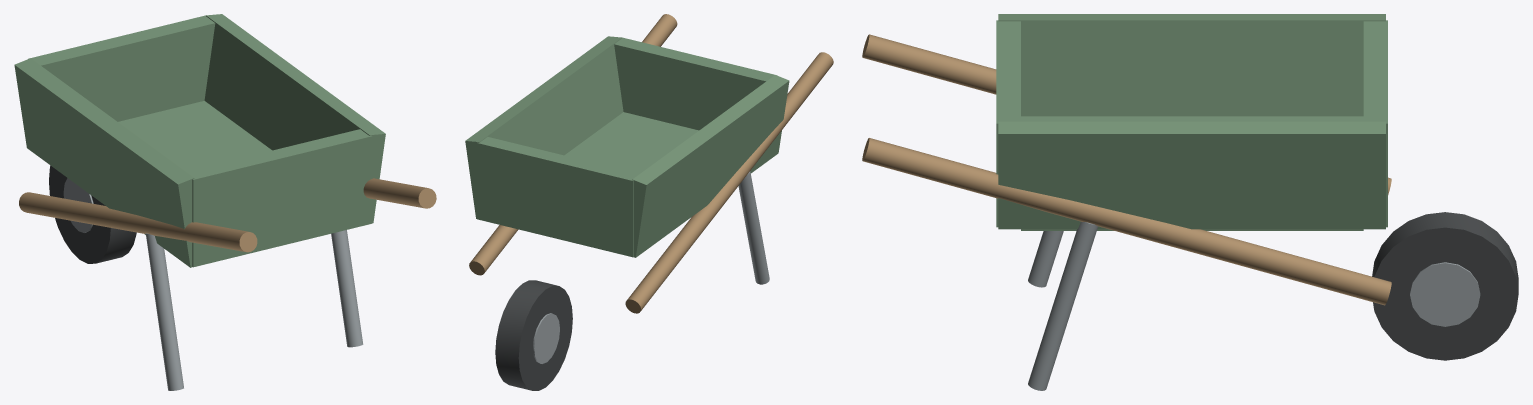
Rendered from wheelbarrow.glb.
The picture shows the model from 3 angles, left to right: view 1: azimuth 30°, elevation 25°; view 2: azimuth 150°, elevation 25°; view 3: azimuth 270°, elevation 25°; orthographic projection. The views are drawn at different scales.
Visible parts, largest first — view 1: tray_end_8, tray_side_2, tray_side_5, tray_end_9, tray_floor_1, handle_3, tire_10, leg_4, leg_7, handle_6, hub_11; view 2: tray_end_9, tray_side_2, tray_side_5, tray_end_8, tire_10, handle_3, tray_floor_1, handle_6, leg_4, hub_11; view 3: tray_side_5, tray_side_2, tire_10, handle_6, hub_11, handle_3, leg_7, tray_end_8, tray_end_9, tray_floor_1, leg_4.
Boxes of the visible parts, left/top/right/bottom form: tray_end_8: left=186, top=129, right=372, bottom=267; tray_side_2: left=14, top=58, right=194, bottom=267; tray_side_5: left=204, top=14, right=385, bottom=223; tray_end_9: left=28, top=15, right=215, bottom=121; tray_floor_1: left=118, top=101, right=271, bottom=171; handle_3: left=19, top=192, right=257, bottom=252; tire_10: left=49, top=165, right=136, bottom=263; leg_4: left=145, top=233, right=183, bottom=390; leg_7: left=331, top=230, right=363, bottom=347; handle_6: left=363, top=178, right=436, bottom=208; hub_11: left=63, top=178, right=93, bottom=232; tray_end_9: left=477, top=137, right=639, bottom=257; tray_side_2: left=632, top=75, right=789, bottom=257; tray_side_5: left=465, top=36, right=623, bottom=218; tray_end_8: left=614, top=37, right=777, bottom=130; tire_10: left=495, top=280, right=572, bottom=390; handle_3: left=625, top=52, right=833, bottom=313; tray_floor_1: left=564, top=112, right=698, bottom=173; handle_6: left=469, top=14, right=677, bottom=275; leg_4: left=738, top=171, right=769, bottom=284; hub_11: left=533, top=313, right=559, bottom=363; tray_side_5: left=998, top=121, right=1385, bottom=229; tray_side_2: left=998, top=14, right=1385, bottom=116; tire_10: left=1372, top=212, right=1518, bottom=360; handle_6: left=862, top=138, right=1391, bottom=305; hub_11: left=1410, top=262, right=1480, bottom=326; handle_3: left=862, top=34, right=1391, bottom=194; leg_7: left=1028, top=221, right=1097, bottom=390; tray_end_8: left=996, top=20, right=1020, bottom=227; tray_end_9: left=1363, top=20, right=1387, bottom=227; tray_floor_1: left=1021, top=116, right=1363, bottom=230; leg_4: left=1028, top=231, right=1063, bottom=287.
Bounding box in the file's own units: 0.6962 × 0.7625 × 1.61.
